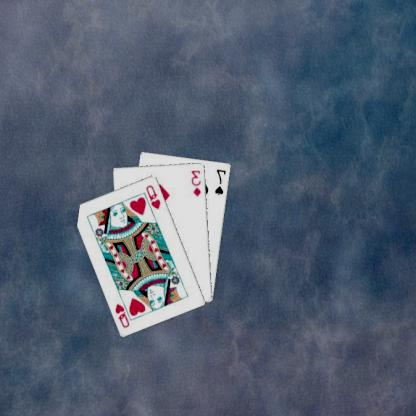3D: (190, 168, 204, 198)
7S: (214, 167, 230, 196)
QH: (114, 295, 135, 329), (145, 182, 164, 211)
